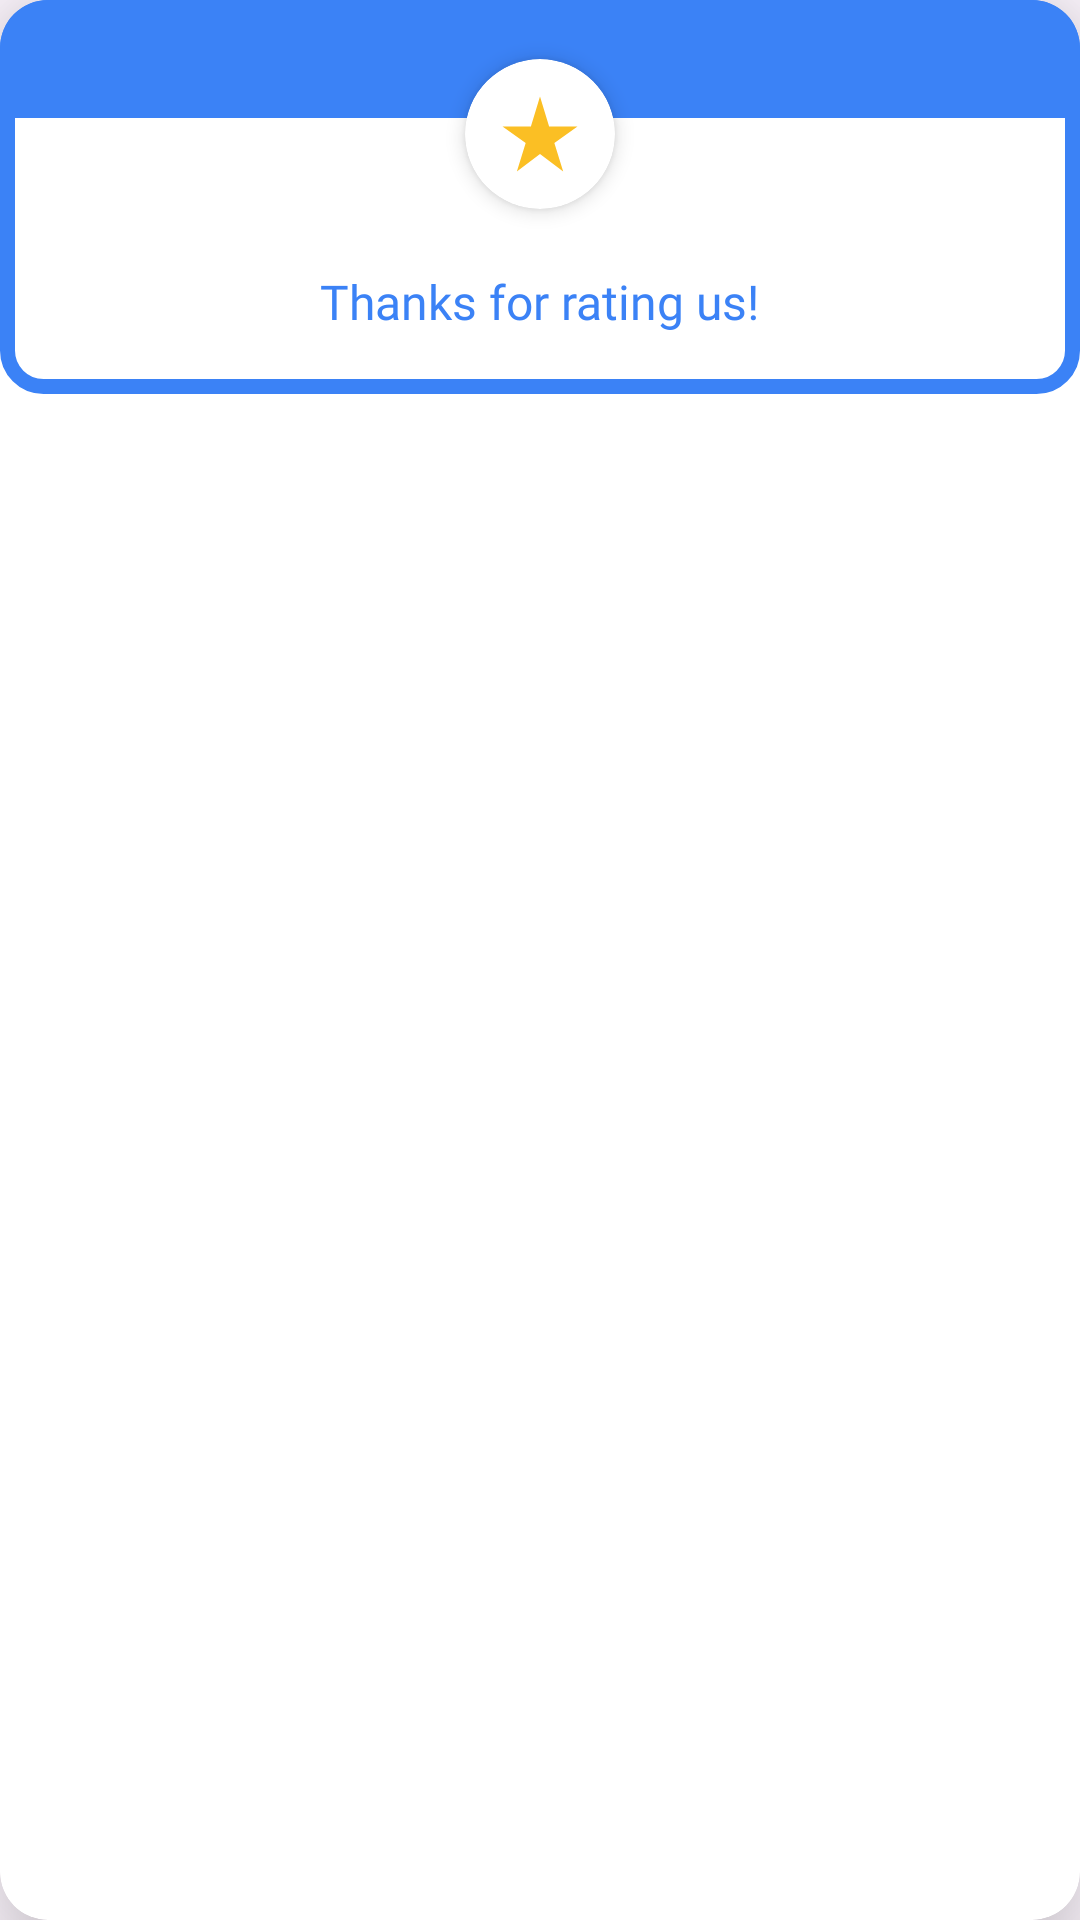

Screen size 1080w x 1920h. Icon name, then its box in pixels as {"x1": x1, "y1": y1, "x2": x2, "y2": y2}:
star rate: {"x1": 503, "y1": 97, "x2": 577, "y2": 171}
